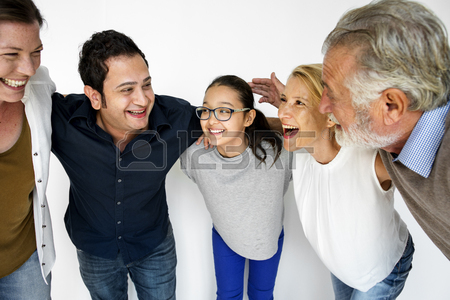person: (311, 10, 434, 203), (72, 34, 182, 158), (175, 74, 280, 184), (269, 53, 337, 187)
